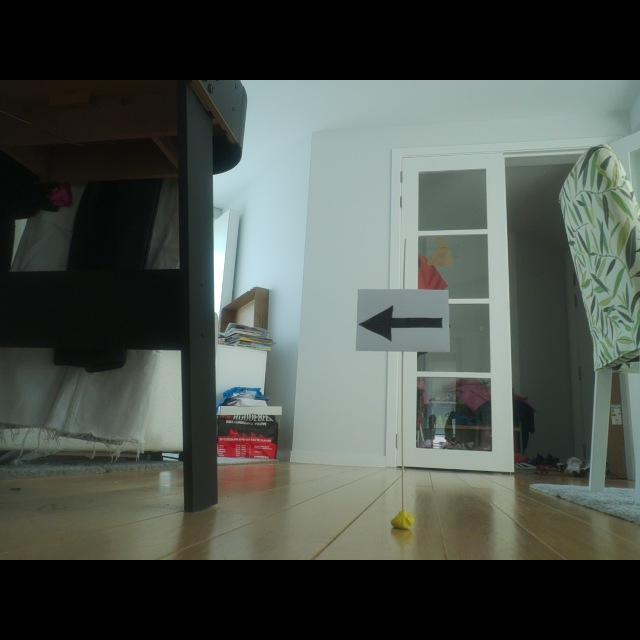balra_nyil: (359, 306, 441, 341)
